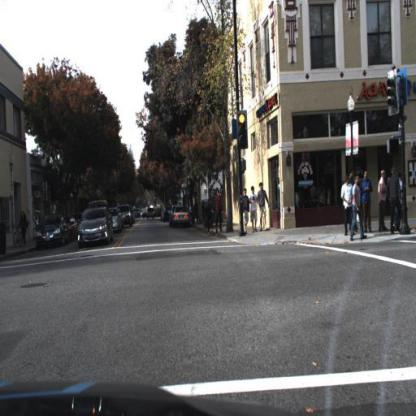car: (79, 205, 112, 254), (35, 210, 69, 253), (171, 204, 194, 231), (114, 211, 123, 231), (164, 206, 172, 224)
pedestrian: (389, 165, 402, 241), (360, 171, 373, 239), (351, 177, 363, 239), (342, 178, 354, 238), (346, 170, 356, 233), (395, 171, 405, 231), (378, 168, 387, 231), (348, 171, 358, 227), (345, 175, 353, 236), (380, 172, 388, 231), (259, 183, 268, 230), (19, 212, 31, 247), (206, 195, 216, 237), (207, 195, 215, 243), (241, 191, 250, 233), (249, 188, 258, 228), (250, 186, 258, 230), (243, 191, 251, 234), (216, 190, 223, 239), (20, 211, 28, 245)
trafficLight: (237, 110, 249, 150)
